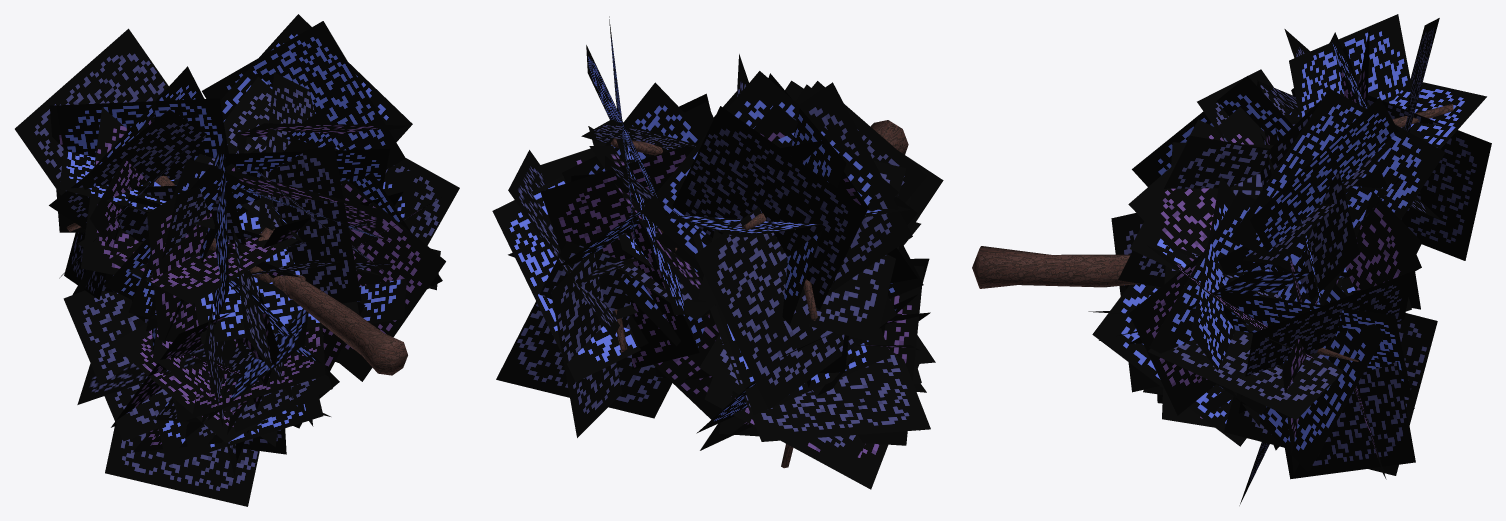
File: Tree1Phase2.fbx
3 views of the same model, side by side, from view 1: azimuth 30°, elevation 25°; view 2: azimuth 150°, elevation 25°; view 3: azimuth 270°, elevation 25° (orthographic). The views are drawn at different scales.
Visible parts, largest first — view 1: Tree1Phase1.001; view 2: Tree1Phase1.001; view 3: Tree1Phase1.001.
Boxes of the visible parts, bbox=[...] form: Tree1Phase1.001: bbox=[15, 14, 459, 506]; Tree1Phase1.001: bbox=[492, 16, 943, 489]; Tree1Phase1.001: bbox=[972, 14, 1491, 505].
Bounding box in the file's own units: 1387 × 1527 × 1493.
